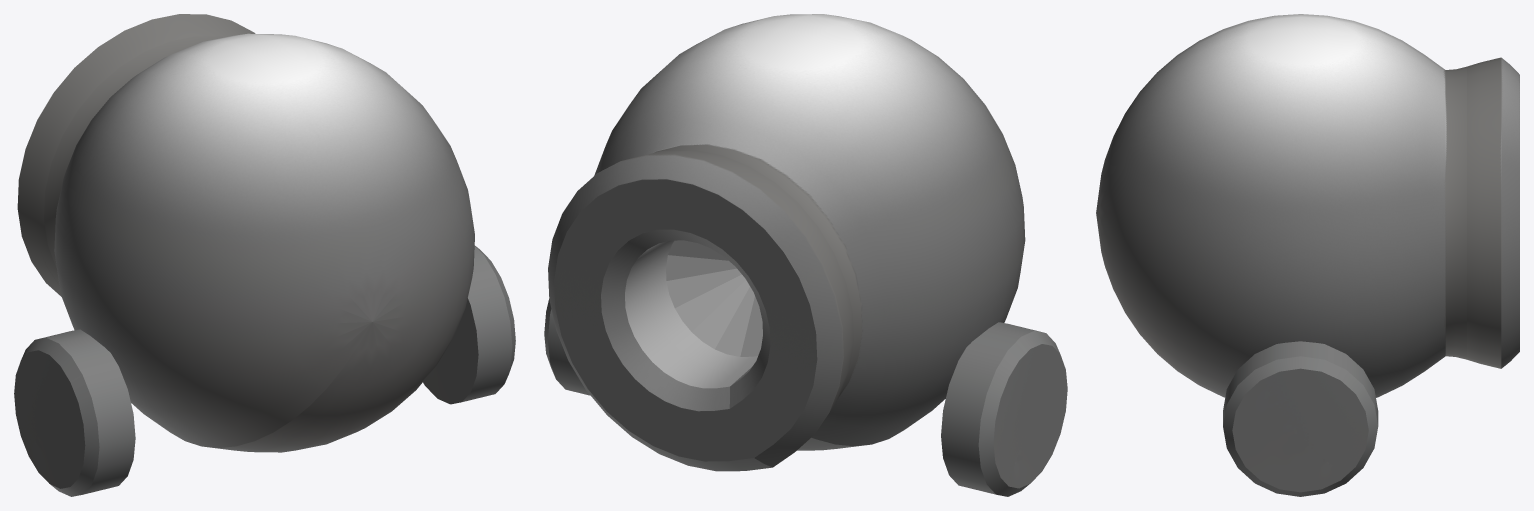
The model's file is Cannon 1.fbx.
3 views of the same model, side by side, from view 1: azimuth 30°, elevation 25°; view 2: azimuth 150°, elevation 25°; view 3: azimuth 270°, elevation 25° (orthographic). The views are drawn at different scales.
Visible parts, largest first — view 1: Cannon_1, pCylinder7, pCylinder8; view 2: Cannon_1, pCylinder7, pCylinder8; view 3: Cannon_1, pCylinder8.
Boxes of the visible parts, x1=… form: Cannon_1: x1=17, y1=14, x2=474, y2=452; pCylinder7: x1=14, y1=329, x2=135, y2=496; pCylinder8: x1=423, y1=245, x2=515, y2=404; Cannon_1: x1=548, y1=14, x2=1025, y2=471; pCylinder7: x1=941, y1=322, x2=1067, y2=496; pCylinder8: x1=544, y1=299, x2=590, y2=395; Cannon_1: x1=1096, y1=14, x2=1519, y2=397; pCylinder8: x1=1223, y1=341, x2=1378, y2=496.
Bounding box in the file's own units: 133 × 115 × 120.
Materials: 2 (1 with a texture image).
